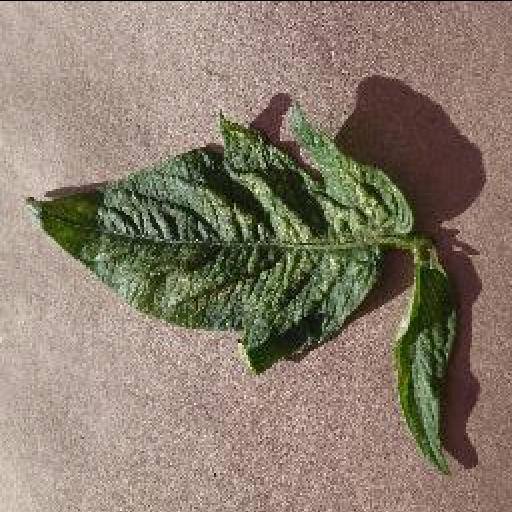Spider Mites: (27, 108, 413, 372)
